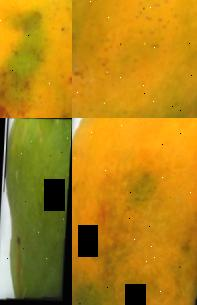PartiallyRipe: (72, 0, 197, 118)
Ripe: (72, 118, 197, 305), (0, 0, 72, 118)
Unripe: (0, 118, 72, 305)
